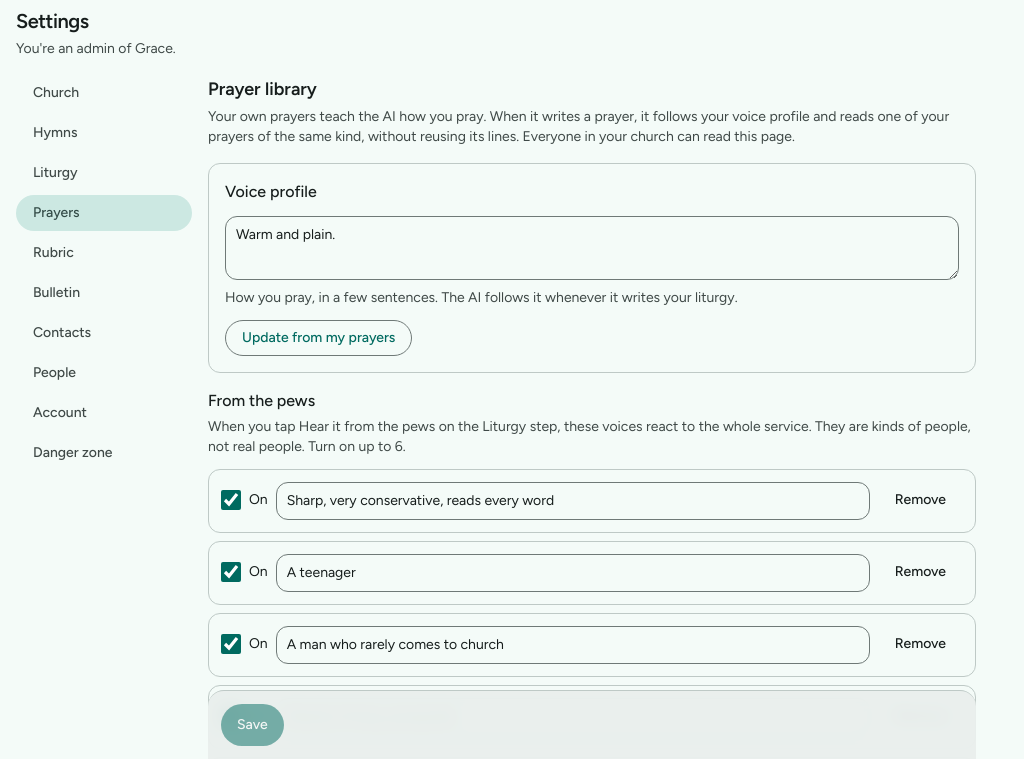
Test: Settings → Prayers (slice 6a-3b) › shows a refusal under the row it names, opening and focusing it, and toasts one it cannot place
Type " Amen." into the text box labelled "Voice profile". click: (592, 248)
box: [225,216,959,280]
(page scrolled)
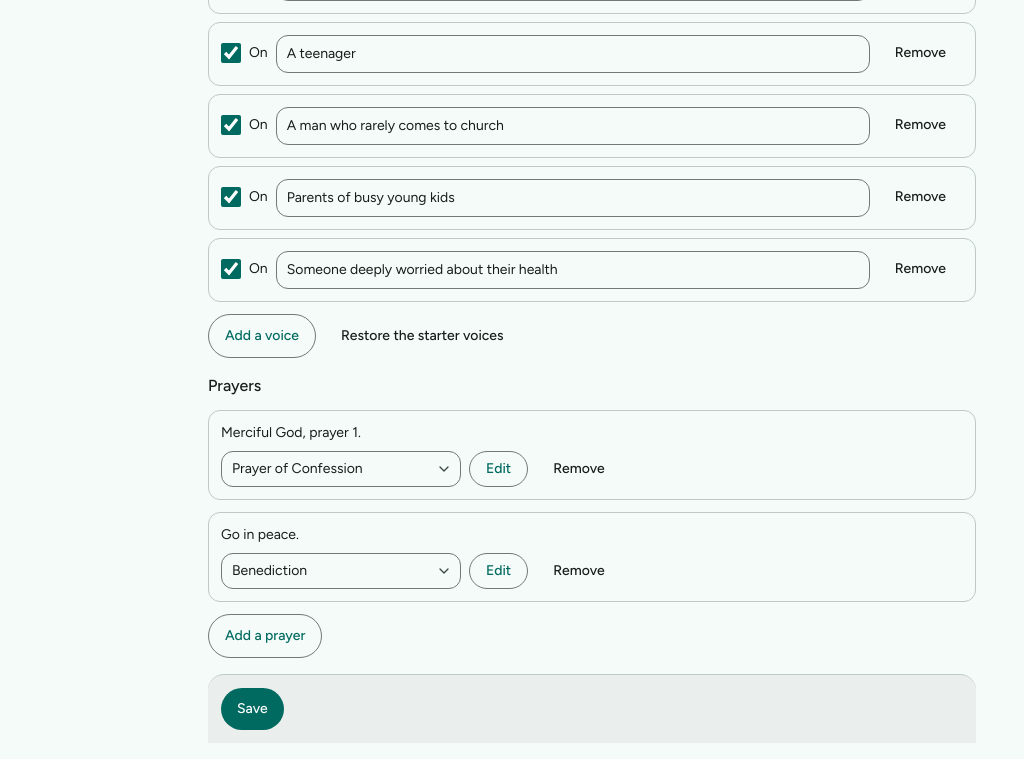
Click the button "Save". click: click(252, 709)
box: [220,687,285,731]
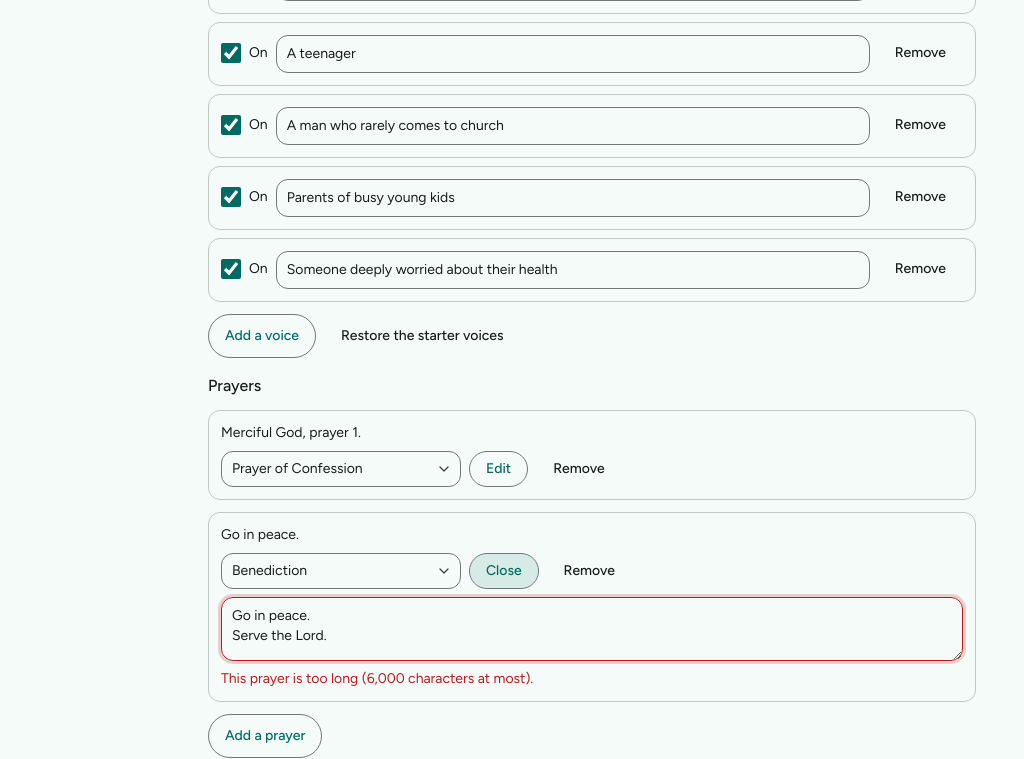
Type "x" into the text box named "Prayer 2". click: (592, 629)
box: [221,597,963,661]
(page scrolled)
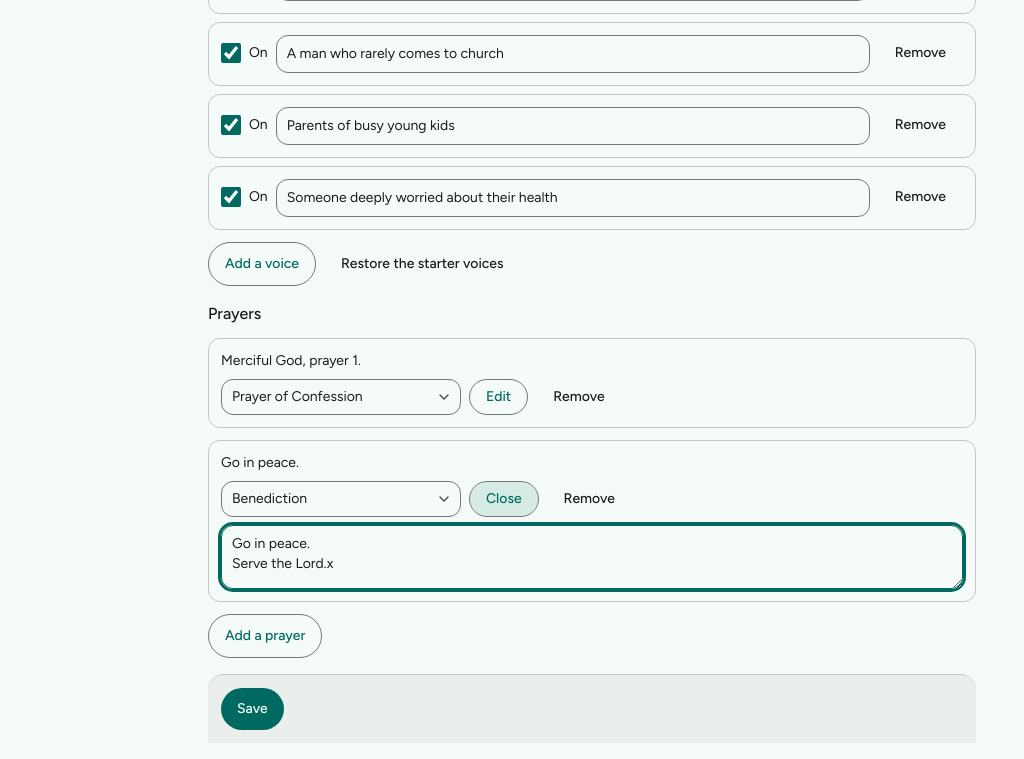
Check: the text "This prayer is too long (6,000 characters at most)." is gone
Click the button "Save". click: click(252, 709)
box: [220,687,285,731]
(page scrolled)
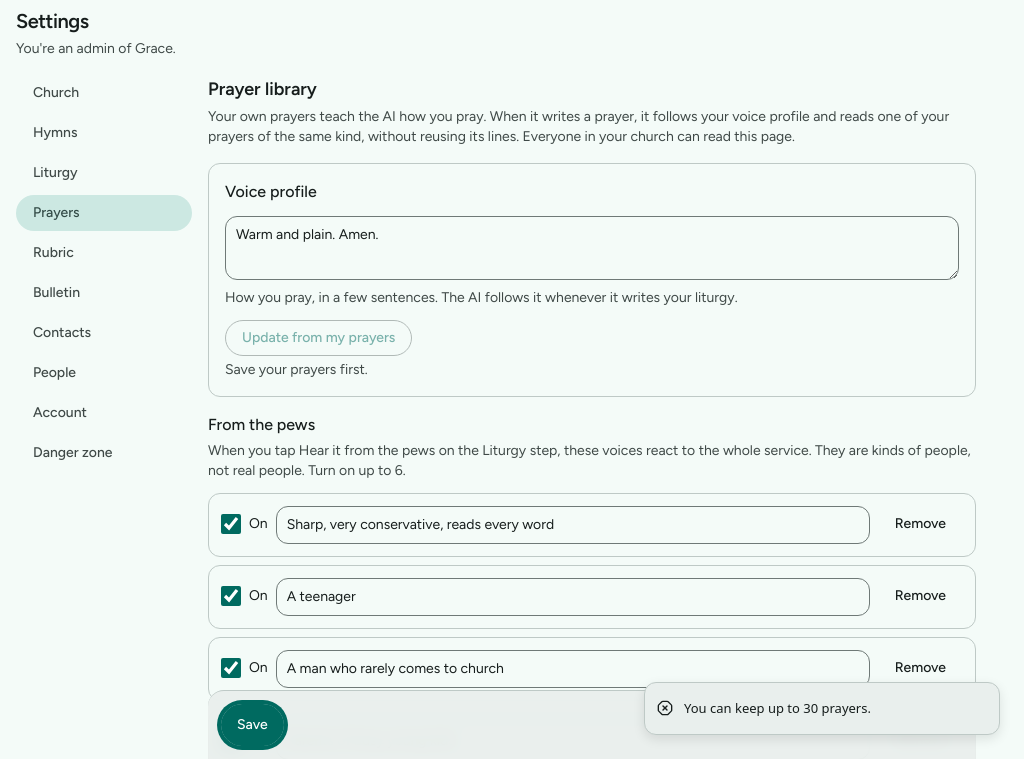
Check: the text box labelled "Voice profile" holds "Warm and plain. Amen.", box [225,216,959,280]
Check: the text "You can keep up to 30 prayers." is shown, box [684,698,871,718]
